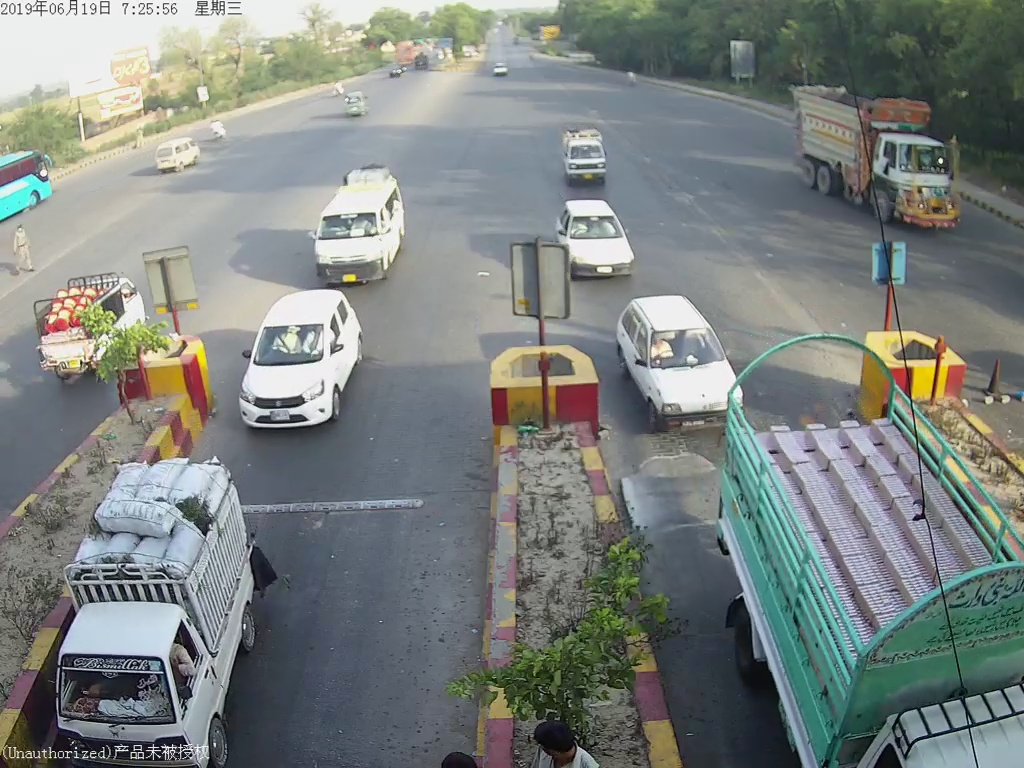Cat-1: (51, 459, 253, 740), (231, 290, 369, 429), (619, 288, 724, 426), (560, 190, 640, 279), (560, 129, 610, 181)
Cat-2: (309, 164, 415, 281)
